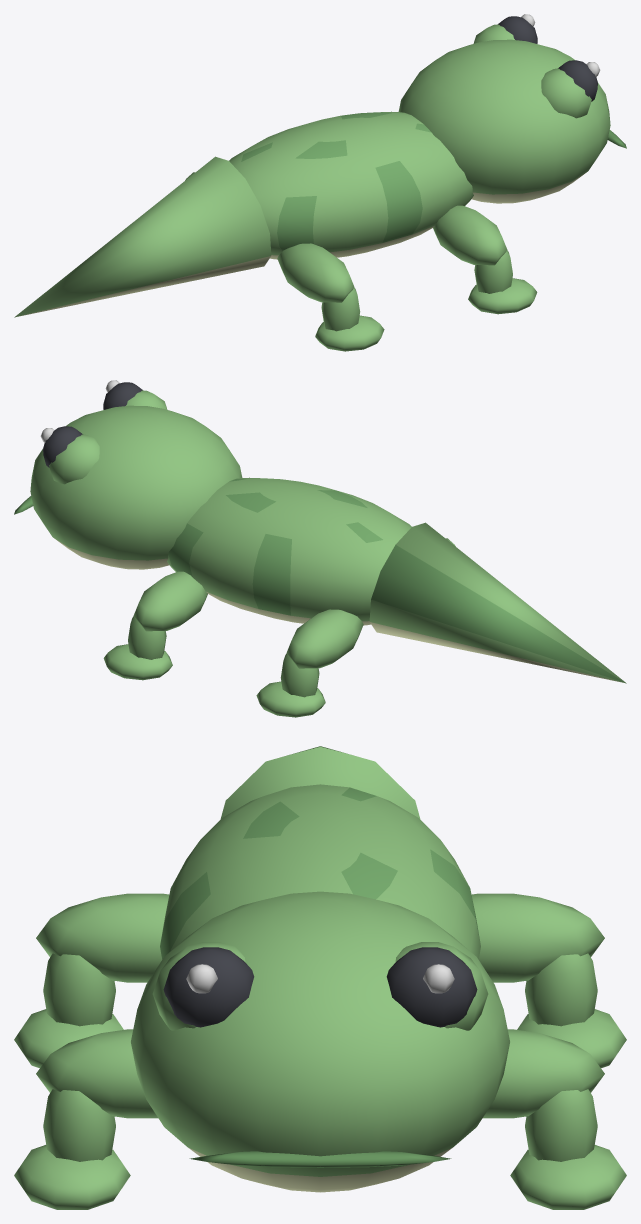
File: lizard.glb
The picture shows the model from 3 angles, top to bottom: view 1: azimuth 30°, elevation 25°; view 2: azimuth 150°, elevation 25°; view 3: azimuth 270°, elevation 25°; orthographic projection. The views are drawn at different scales.
Visible parts, largest first — view 1: Head, Body, Tail, LegBR, LegFR; view 2: Head, Body, Tail, LegBL, LegFL; view 3: Head, Body, LegFL, LegFR, LegBL, LegBR, Tail.
Boxes of the visible parts, x1,y1,x2,y2 form: Head: [398, 14, 626, 203]; Body: [229, 111, 473, 259]; Tail: [14, 156, 271, 317]; LegBR: [277, 243, 384, 351]; LegFR: [433, 205, 537, 314]; Head: [14, 380, 242, 569]; Body: [167, 477, 411, 625]; Tail: [369, 522, 626, 683]; LegBL: [256, 609, 363, 717]; LegFL: [103, 571, 207, 680]; Head: [131, 891, 509, 1192]; Body: [160, 784, 480, 959]; LegFL: [483, 1029, 626, 1209]; LegFR: [14, 1029, 157, 1209]; LegBL: [471, 893, 626, 1068]; LegBR: [14, 893, 169, 1068]; Tail: [220, 746, 420, 818].
Bounding box in the file's own units: 1.68 × 0.525 × 0.84.
